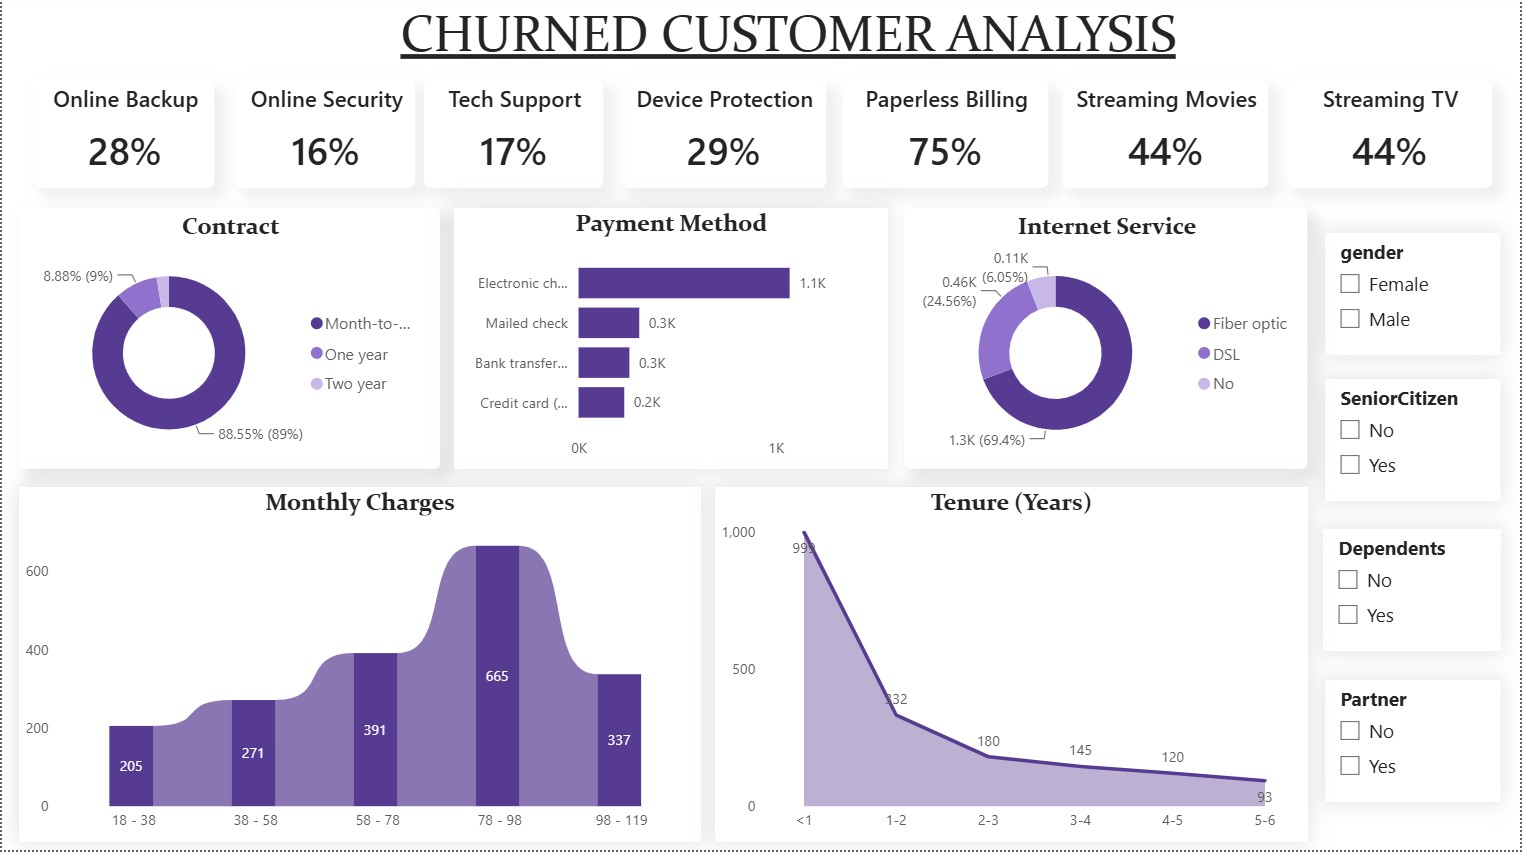

Layout of this report page (visuals, bound fields, positions):
{"tool":"powerbi","page":{"name":"Churned Customer","canvas":[1280,720],"ordinal":1},"visuals":[{"type":"kpi","title":"Online Backup","fields":{"TrendLine":["Telco_Customer_Churn_Only.OnlineBackup"],"Indicator":["CountNonNull(Telco_Customer_Churn_Only.OnlineBackup)"]},"box":[27.8,70.7,151.3,91.3],"z":0},{"type":"kpi","title":"Online Security","fields":{"TrendLine":["Telco_Customer_Churn_Only.OnlineSecurity"],"Indicator":["CountNonNull(Telco_Customer_Churn_Only.OnlineSecurity)"]},"box":[197,70.7,151.3,91.3],"z":1},{"type":"kpi","title":"Device Protection","fields":{"TrendLine":["Telco_Customer_Churn_Only.DeviceProtection"],"Indicator":["CountNonNull(Telco_Customer_Churn_Only.DeviceProtection)"]},"box":[522.1,70.7,172.8,91.3],"z":2},{"type":"kpi","title":"Paperless Billing","fields":{"TrendLine":["Telco_Customer_Churn_Only.PaperlessBilling"],"Indicator":["CountNonNull(Telco_Customer_Churn_Only.PaperlessBilling)"]},"box":[709.3,70.7,172.8,91.3],"z":3},{"type":"kpi","title":"Streaming Movies","fields":{"TrendLine":["Telco_Customer_Churn_Only.StreamingMovies"],"Indicator":["CountNonNull(Telco_Customer_Churn_Only.StreamingMovies)"]},"box":[894.6,70.7,172.8,91.3],"z":4},{"type":"kpi","title":"Tech Support","fields":{"TrendLine":["Telco_Customer_Churn_Only.TechSupport"],"Indicator":["CountNonNull(Telco_Customer_Churn_Only.TechSupport)"]},"box":[355.5,70.7,151.3,91.3],"z":5},{"type":"kpi","title":"Streaming TV","fields":{"TrendLine":["Telco_Customer_Churn_Only.StreamingTV"],"Indicator":["CountNonNull(Telco_Customer_Churn_Only.StreamingTV)"]},"box":[1083.6,70.7,172.8,91.3],"z":6},{"type":"textbox","box":[266,0,794.3,70.7],"z":7},{"type":"donutChart","title":"Contract","fields":{"Category":["Telco_Customer_Churn_Only.Contract"],"Y":["CountNonNull(Telco_Customer_Churn_Only.Contract)"]},"box":[14.3,179.1,354.6,220.3],"z":8},{"type":"slicer","fields":{"Values":["Telco_Customer_Churn.gender"]},"box":[1115.8,199.7,147.8,103],"z":9},{"type":"slicer","fields":{"Values":["Telco_Customer_Churn.SeniorCitizen"]},"box":[1115.8,323.3,147.8,103],"z":10},{"type":"slicer","fields":{"Values":["Telco_Customer_Churn.Dependents"]},"box":[1114,449.6,149.6,103],"z":11},{"type":"slicer","fields":{"Values":["Telco_Customer_Churn.Partner"]},"box":[1115.8,576.7,147.8,103],"z":12},{"type":"barChart","title":"Payment Method","fields":{"Category":["Telco_Customer_Churn_Only.PaymentMethod"],"Y":["CountNonNull(Telco_Customer_Churn_Only.customerID)"]},"box":[381.5,179.1,366.3,220.3],"z":13},{"type":"donutChart","title":"Internet Service","fields":{"Y":["CountNonNull(Telco_Customer_Churn_Only.InternetService)"],"Category":["Telco_Customer_Churn_Only.InternetService"]},"box":[760.3,179.1,340.3,220.3],"z":14},{"type":"ribbonChart","title":"Monthly Charges","fields":{"Y":["CountNonNull(Telco_Customer_Churn_Only.customerID)"],"Category":["Telco_Customer_Churn_Only.MonthlyChargesGroup"]},"box":[14.3,413.7,574.9,299.1],"z":15},{"type":"areaChart","title":"Tenure (Years)","fields":{"Y":["CountNonNull(Telco_Customer_Churn_Only.customerID)"],"Category":["Telco_Customer_Churn_Only.Tenure(Years)"]},"box":[600.9,413.7,499.7,299.1],"z":16}]}

Visuals, with their boxes in screenshot pixels (x1, y1, x2, y2), scaled from the page's 1280x720 canvas onto the 1525x853 screenshot:
"Online Backup" kpi: x1=33, y1=84, x2=213, y2=192
"Online Security" kpi: x1=235, y1=84, x2=415, y2=192
"Device Protection" kpi: x1=622, y1=84, x2=828, y2=192
"Paperless Billing" kpi: x1=845, y1=84, x2=1051, y2=192
"Streaming Movies" kpi: x1=1066, y1=84, x2=1272, y2=192
"Tech Support" kpi: x1=424, y1=84, x2=604, y2=192
"Streaming TV" kpi: x1=1291, y1=84, x2=1497, y2=192
textbox: x1=317, y1=0, x2=1263, y2=84
"Contract" donutChart: x1=17, y1=212, x2=440, y2=473
slicer - Telco_Customer_Churn.gender: x1=1329, y1=237, x2=1505, y2=359
slicer - Telco_Customer_Churn.SeniorCitizen: x1=1329, y1=383, x2=1505, y2=505
slicer - Telco_Customer_Churn.Dependents: x1=1327, y1=533, x2=1505, y2=655
slicer - Telco_Customer_Churn.Partner: x1=1329, y1=683, x2=1505, y2=805
"Payment Method" barChart: x1=455, y1=212, x2=891, y2=473
"Internet Service" donutChart: x1=906, y1=212, x2=1311, y2=473
"Monthly Charges" ribbonChart: x1=17, y1=490, x2=702, y2=844
"Tenure (Years)" areaChart: x1=716, y1=490, x2=1311, y2=844
